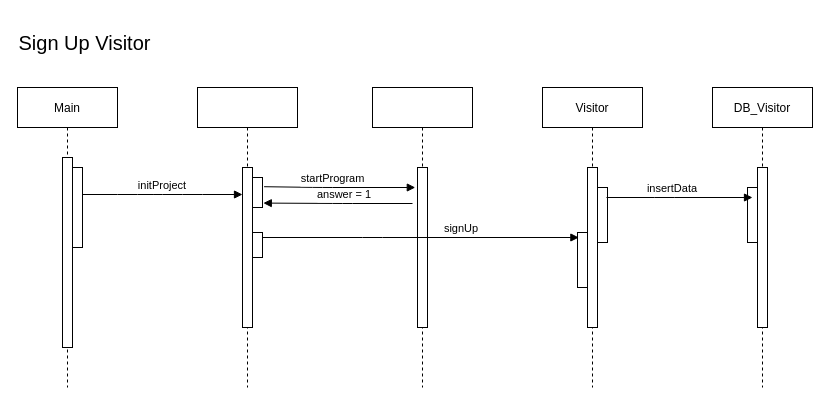
Image size: 830x405. Some labels were removed from this diagram. The box of each missing label's shape, as (x1, y1, x2, y2) in pixels:
IO: (372, 86, 472, 388)
ZooManager: (196, 86, 298, 388)
